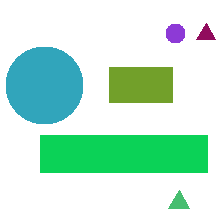circle: (6, 47, 82, 123), (166, 24, 184, 42)
rectangle: (40, 135, 207, 172), (109, 67, 172, 102)
triangle: (168, 190, 189, 208), (196, 23, 215, 39)
